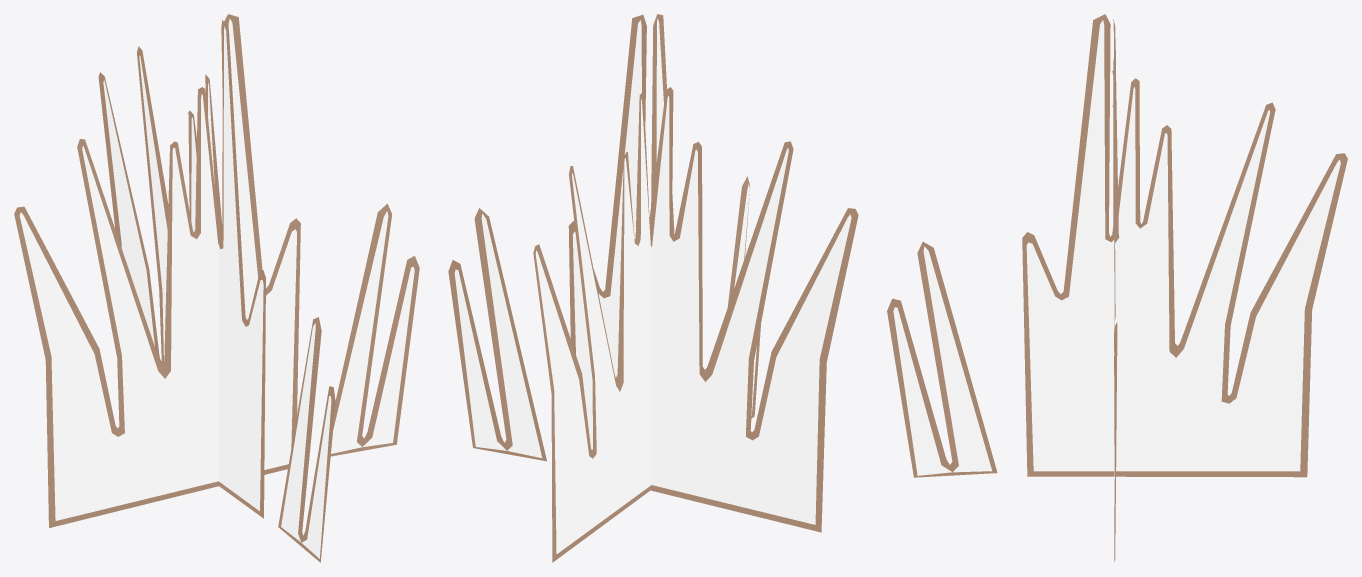
File: Grass.glb
3 renders of one model, left to right at view 1: azimuth 30°, elevation 25°; view 2: azimuth 150°, elevation 25°; view 3: azimuth 270°, elevation 25°, orthographic. The views are drawn at different scales.
Visible parts, largest first — view 1: Grass.004; view 2: Grass.004; view 3: Grass.004.
Part boxes in pixels (bbox=[...]): Grass.004: bbox=[14, 14, 419, 562]; Grass.004: bbox=[448, 14, 858, 562]; Grass.004: bbox=[887, 14, 1347, 561].
Size of the model in its own units: 0.4178 by 0.4633 by 0.4178.
